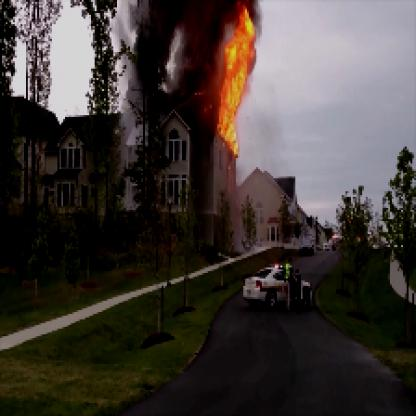Fire: (210, 2, 260, 160)
Smoke: (132, 2, 234, 119)
